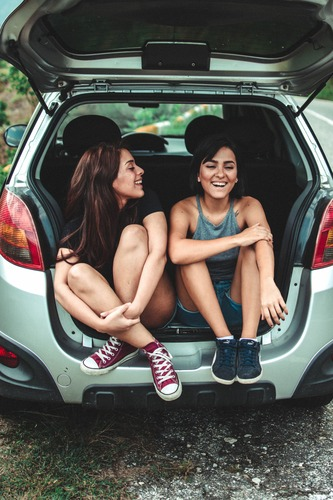without_mask: (99, 151, 145, 195), (201, 145, 238, 196)
